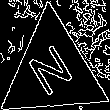N_SE: (25, 38, 81, 103)
